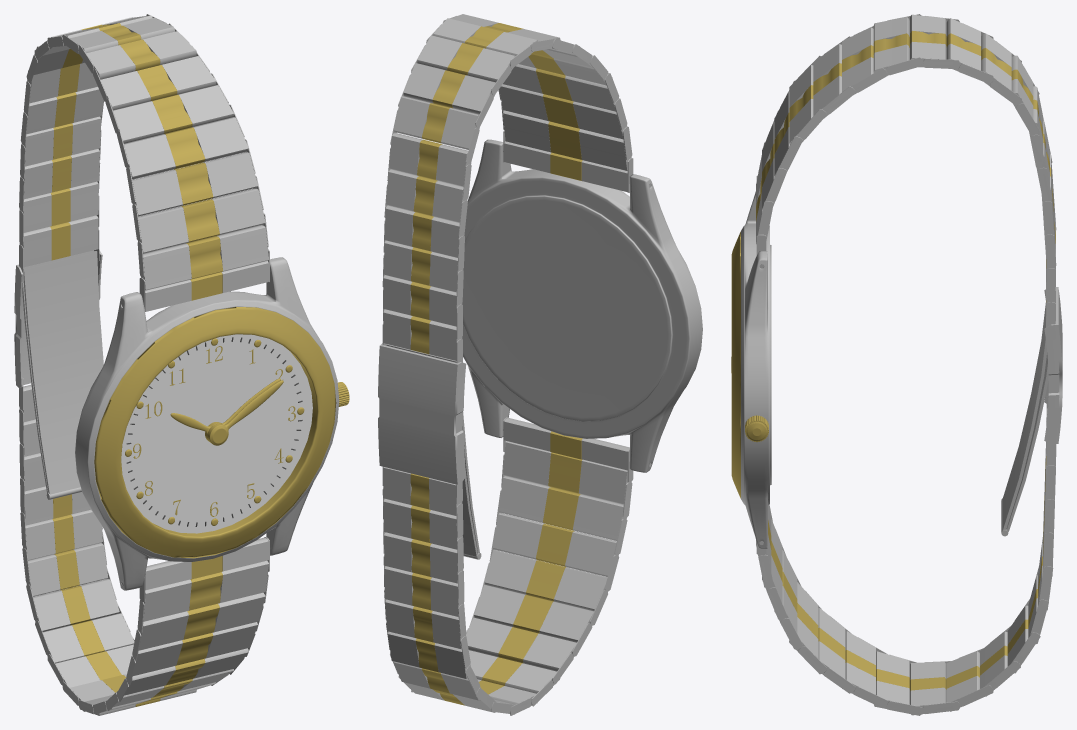
File: two-tone-watch.gltf
3 views of the same model, side by side, from view 1: azimuth 30°, elevation 25°; view 2: azimuth 150°, elevation 25°; view 3: azimuth 270°, elevation 25° (orthographic).
Visible parts, largest first — view 1: two-tone-watch; view 2: two-tone-watch; view 3: two-tone-watch.
Part boxes in pixels (x1,y1,x2,y2): two-tone-watch: (14, 14, 349, 715); two-tone-watch: (378, 14, 702, 715); two-tone-watch: (731, 14, 1062, 715).
Bounding box in the file's own units: 1.06 × 2.56 × 1.17.
